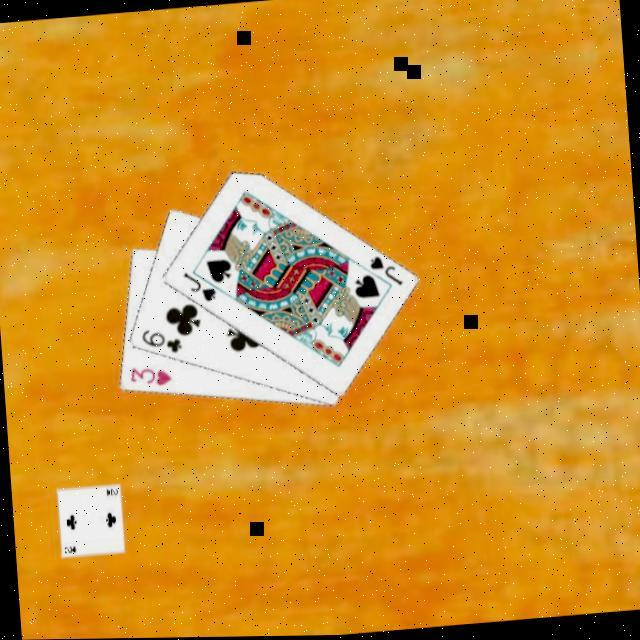3H: (124, 362, 174, 392)
6C: (136, 324, 183, 360)
JS: (364, 252, 405, 293), (178, 268, 218, 308)
